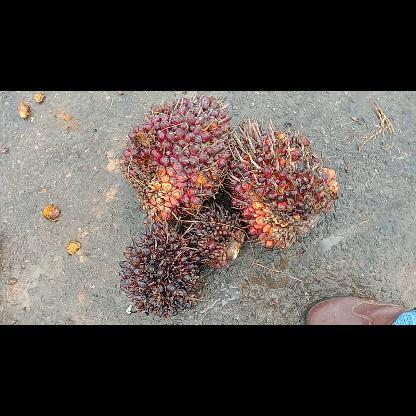TBS abnormal: (117, 220, 203, 318), (188, 202, 248, 270)
TBS masak: (223, 113, 340, 251), (118, 93, 235, 223)
